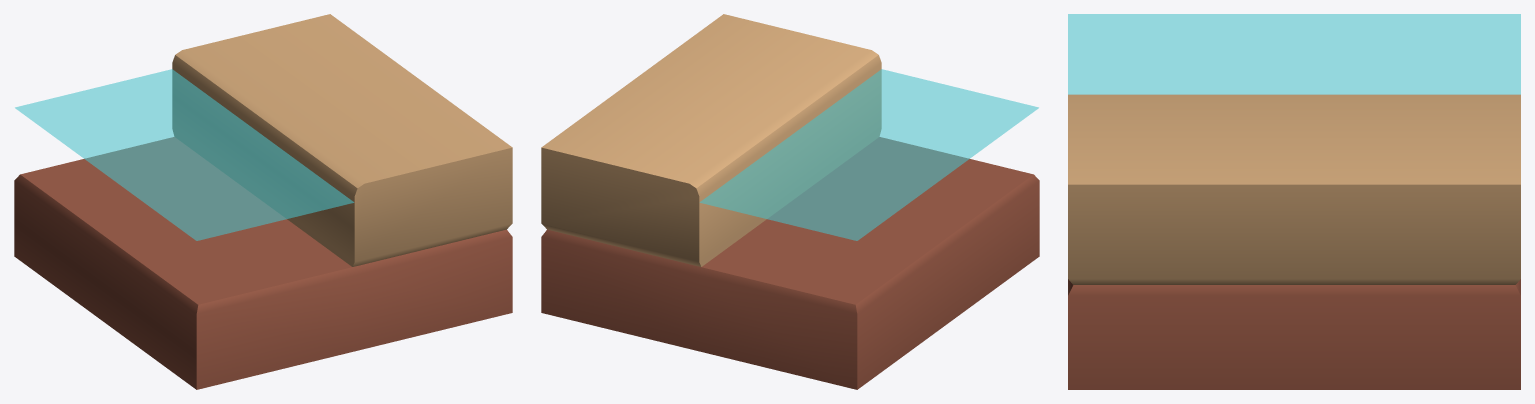
Rendered from square_sand_waterStraight_noSides.fbx.
3 views of the same model, side by side, from view 1: azimuth 30°, elevation 25°; view 2: azimuth 150°, elevation 25°; view 3: azimuth 270°, elevation 25° (orthographic). The views are drawn at different scales.
Visible parts, largest first — view 1: square_sand_waterStraight_noSides; view 2: square_sand_waterStraight_noSides; view 3: square_sand_waterStraight_noSides.
Boxes of the visible parts, x1,y1,x2,y2 form: square_sand_waterStraight_noSides: (14, 14, 512, 389); square_sand_waterStraight_noSides: (541, 14, 1039, 389); square_sand_waterStraight_noSides: (1068, 14, 1520, 389).
Size of the model in its own units: 2 by 1 by 2.
